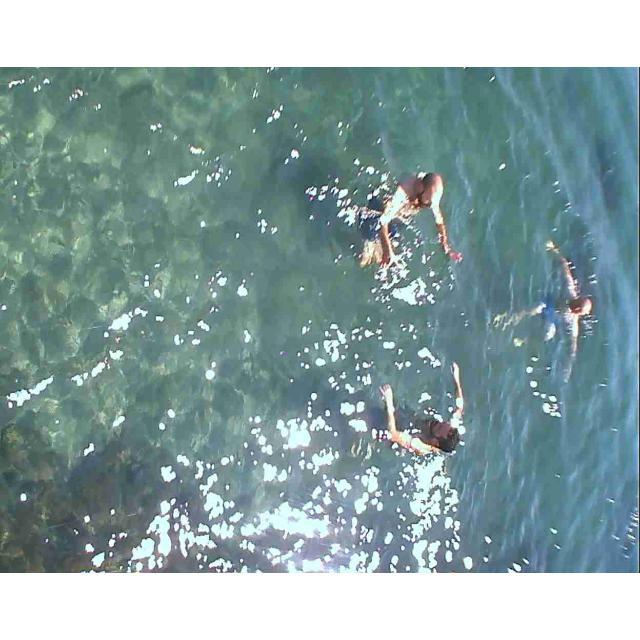human: (355, 152, 460, 286), (382, 339, 464, 468), (529, 226, 588, 393)
